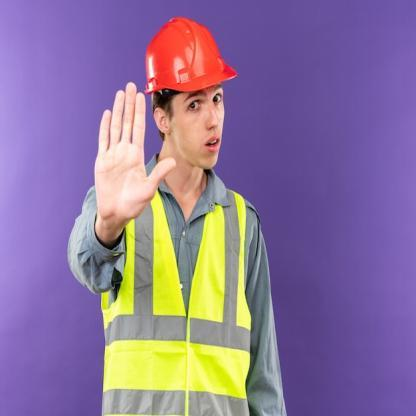stop: (94, 78, 180, 233)
